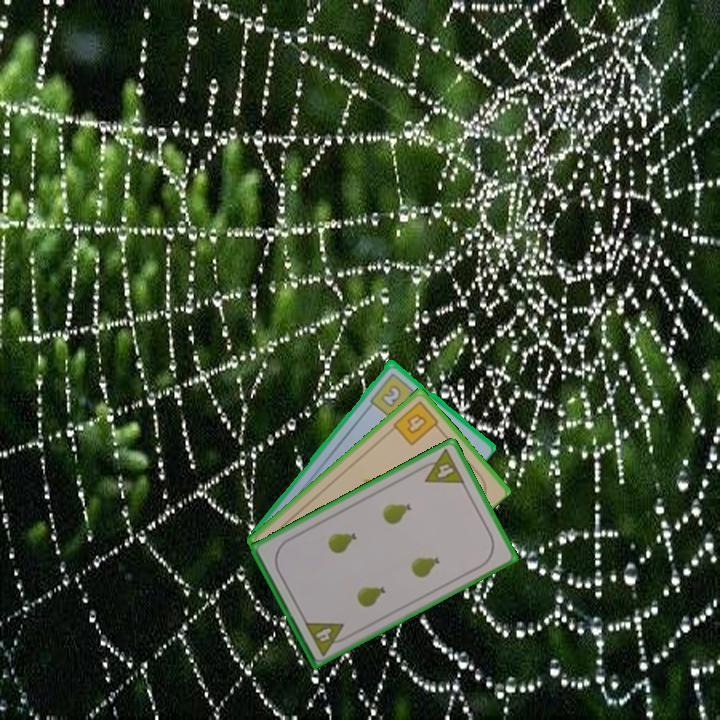2b: (366, 369, 421, 421)
4b: (389, 397, 444, 449)
4p: (415, 445, 467, 487), (301, 617, 352, 658)
